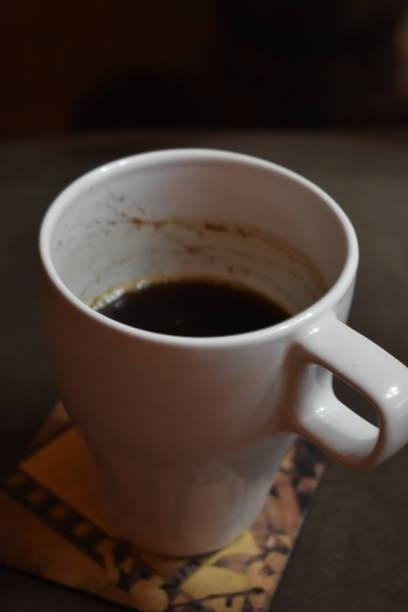cup-handle: (38, 147, 406, 558)
